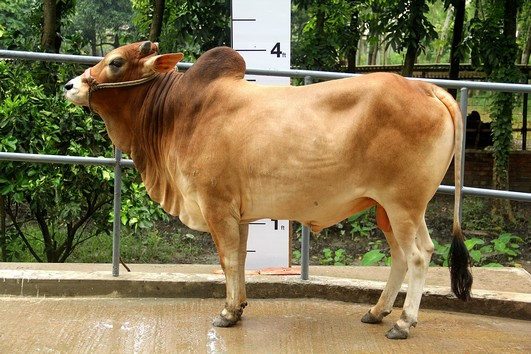cow: (54, 35, 472, 341)
